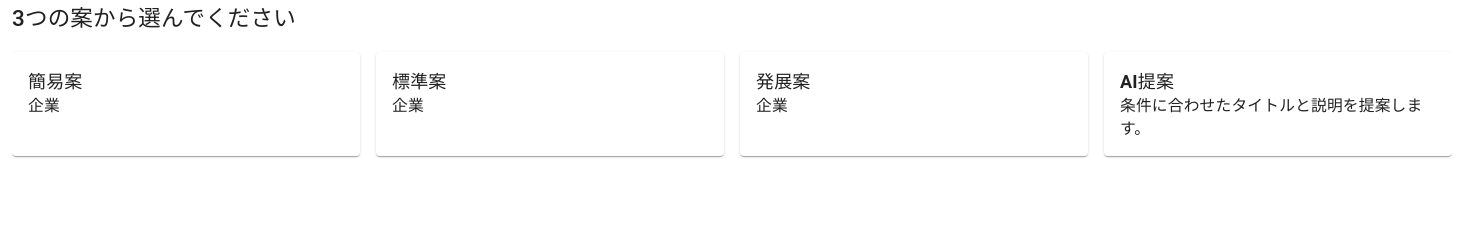
TemplateOverviewPage › keeps fixed tiers available when AI generation fails
Click the button with aria-label "AI提案を選ぶ" at (1278, 104), box [1104,52,1452,156]
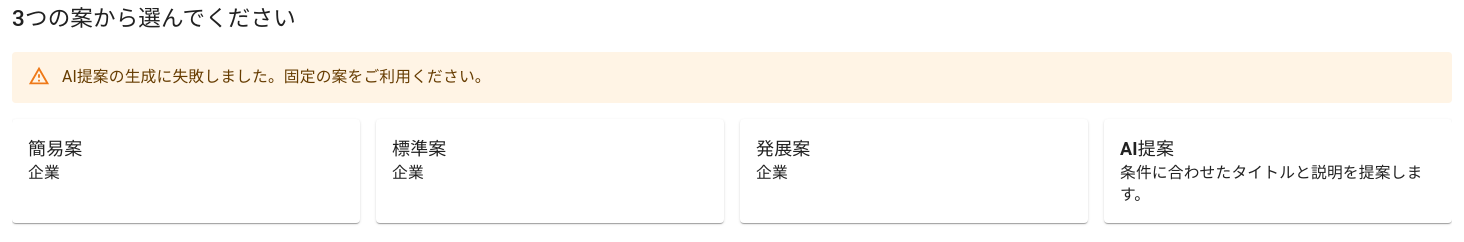
Expected: the button "標準案 企業" is shown, [376,118,724,200]
Expected: the text "AI提案の生成に失敗しました。固定の案をご利用ください。" is shown, [62,67,491,86]
